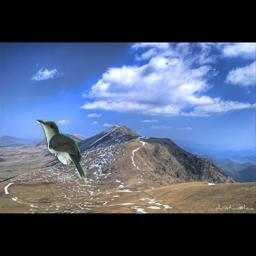Cuckoo: (36, 119, 86, 179)
